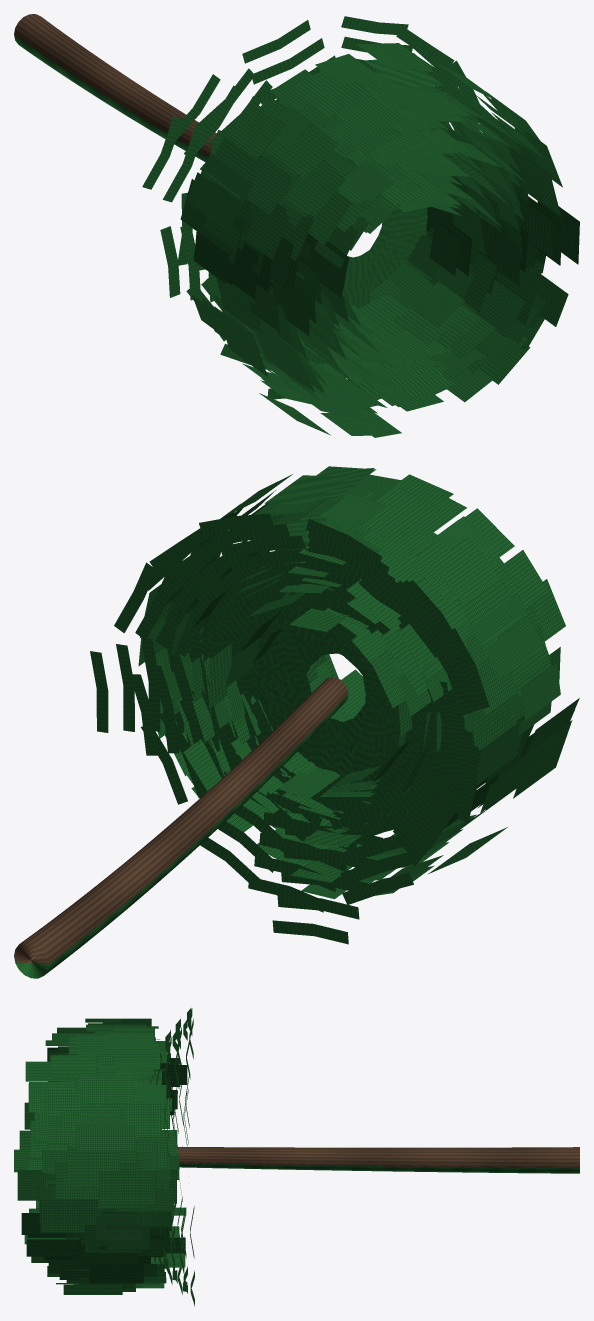
Rendered from veg_tropical_palm_01.obj.
The picture shows the model from 3 angles, top to bottom: view 1: azimuth 30°, elevation 25°; view 2: azimuth 150°, elevation 25°; view 3: azimuth 270°, elevation 25°; orthographic projection. The views are drawn at different scales.
Visible parts, largest first — view 1: veg_tropical_palm_01; view 2: veg_tropical_palm_01; view 3: veg_tropical_palm_01.
Part boxes in pixels (x1,y1,x2,y2): veg_tropical_palm_01: (14,14,579,437); veg_tropical_palm_01: (14,466,579,978); veg_tropical_palm_01: (14,1008,579,1306).
Bounding box in the file's own units: 2.97 × 2.98 × 5.5.
1 material, 1 textured.
